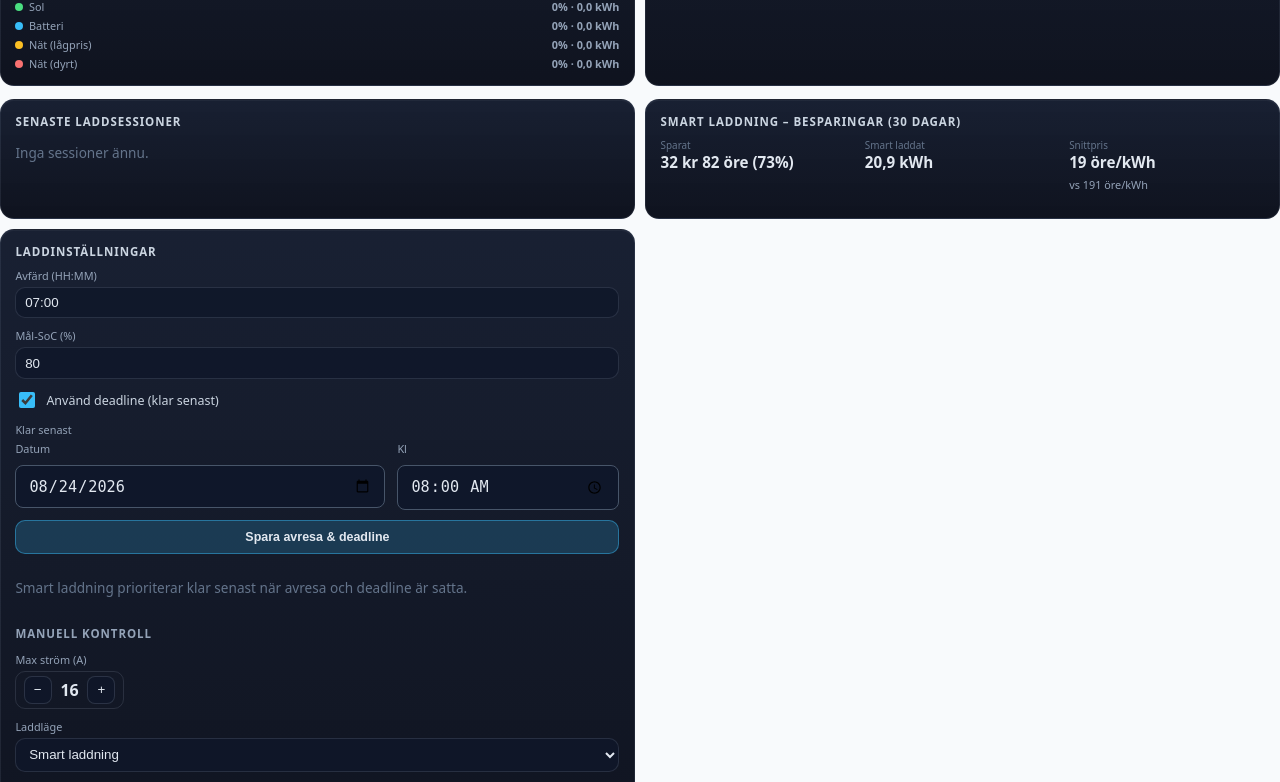
Test: EvOverview › hides deadline date inputs when deadline toggle is off
(page scrolled)
Click the checkbox named "Använd deadline klar senast".
click(27, 400)  # box [19,392,35,408]
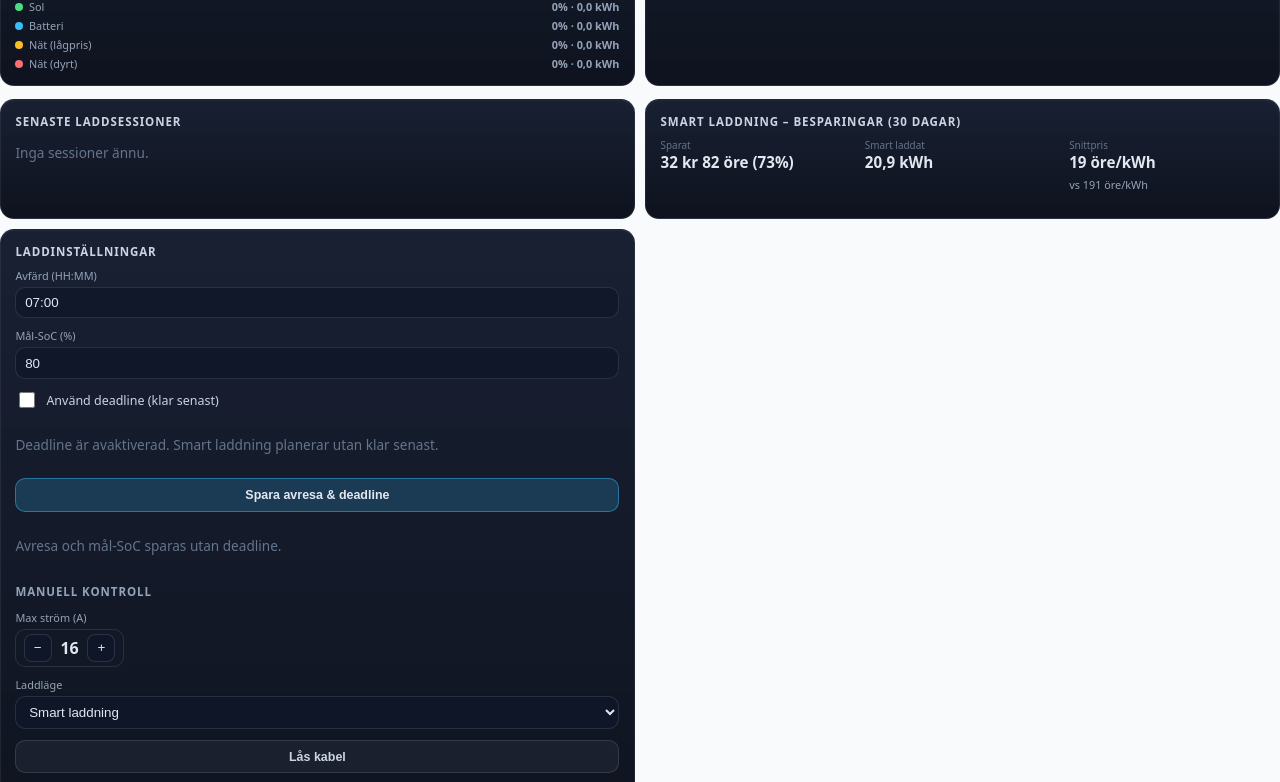
Expected: the text "Deadline är avaktiverad" is shown, [15,435,439,454]
